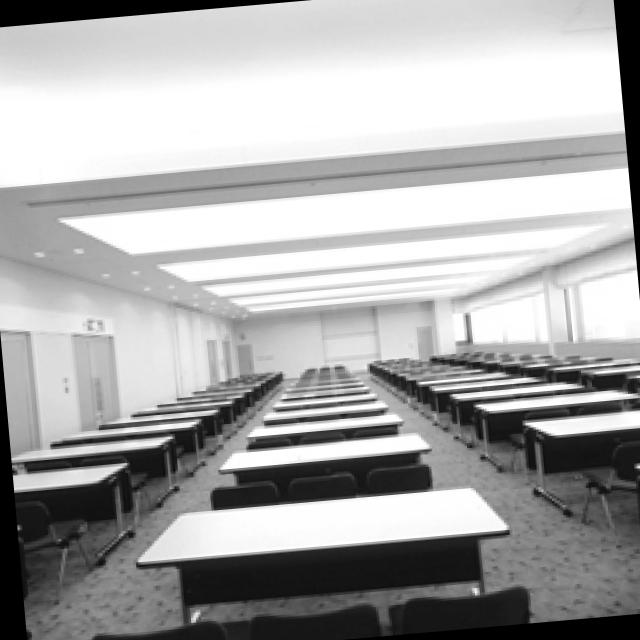2001: (568, 265, 640, 336), (470, 288, 550, 342), (457, 311, 469, 338)
ceiling beam: (0, 0, 633, 315)
chair: (390, 584, 532, 629), (253, 600, 385, 640), (95, 615, 250, 640), (289, 469, 361, 501), (368, 458, 435, 491), (211, 476, 283, 505), (28, 452, 74, 468), (579, 397, 626, 408), (81, 450, 123, 461)
chair -occluded-: (19, 497, 96, 599), (583, 438, 640, 535), (512, 401, 571, 458)
desk calendar: (135, 482, 517, 618), (478, 387, 640, 472), (17, 460, 140, 563), (218, 427, 439, 483), (527, 405, 640, 514), (16, 433, 184, 505), (250, 409, 407, 434), (452, 377, 591, 403), (263, 395, 390, 418)
door bars: (7, 327, 42, 452), (78, 331, 122, 429), (209, 336, 222, 382), (421, 323, 438, 356), (237, 341, 254, 372)
row of chairs: (251, 424, 400, 444), (269, 405, 386, 422)
row of desks: (103, 368, 284, 422), (369, 352, 550, 387), (433, 346, 640, 371), (277, 360, 374, 402)
table -X: (49, 418, 207, 467)
whiteboard: (326, 330, 383, 357)
